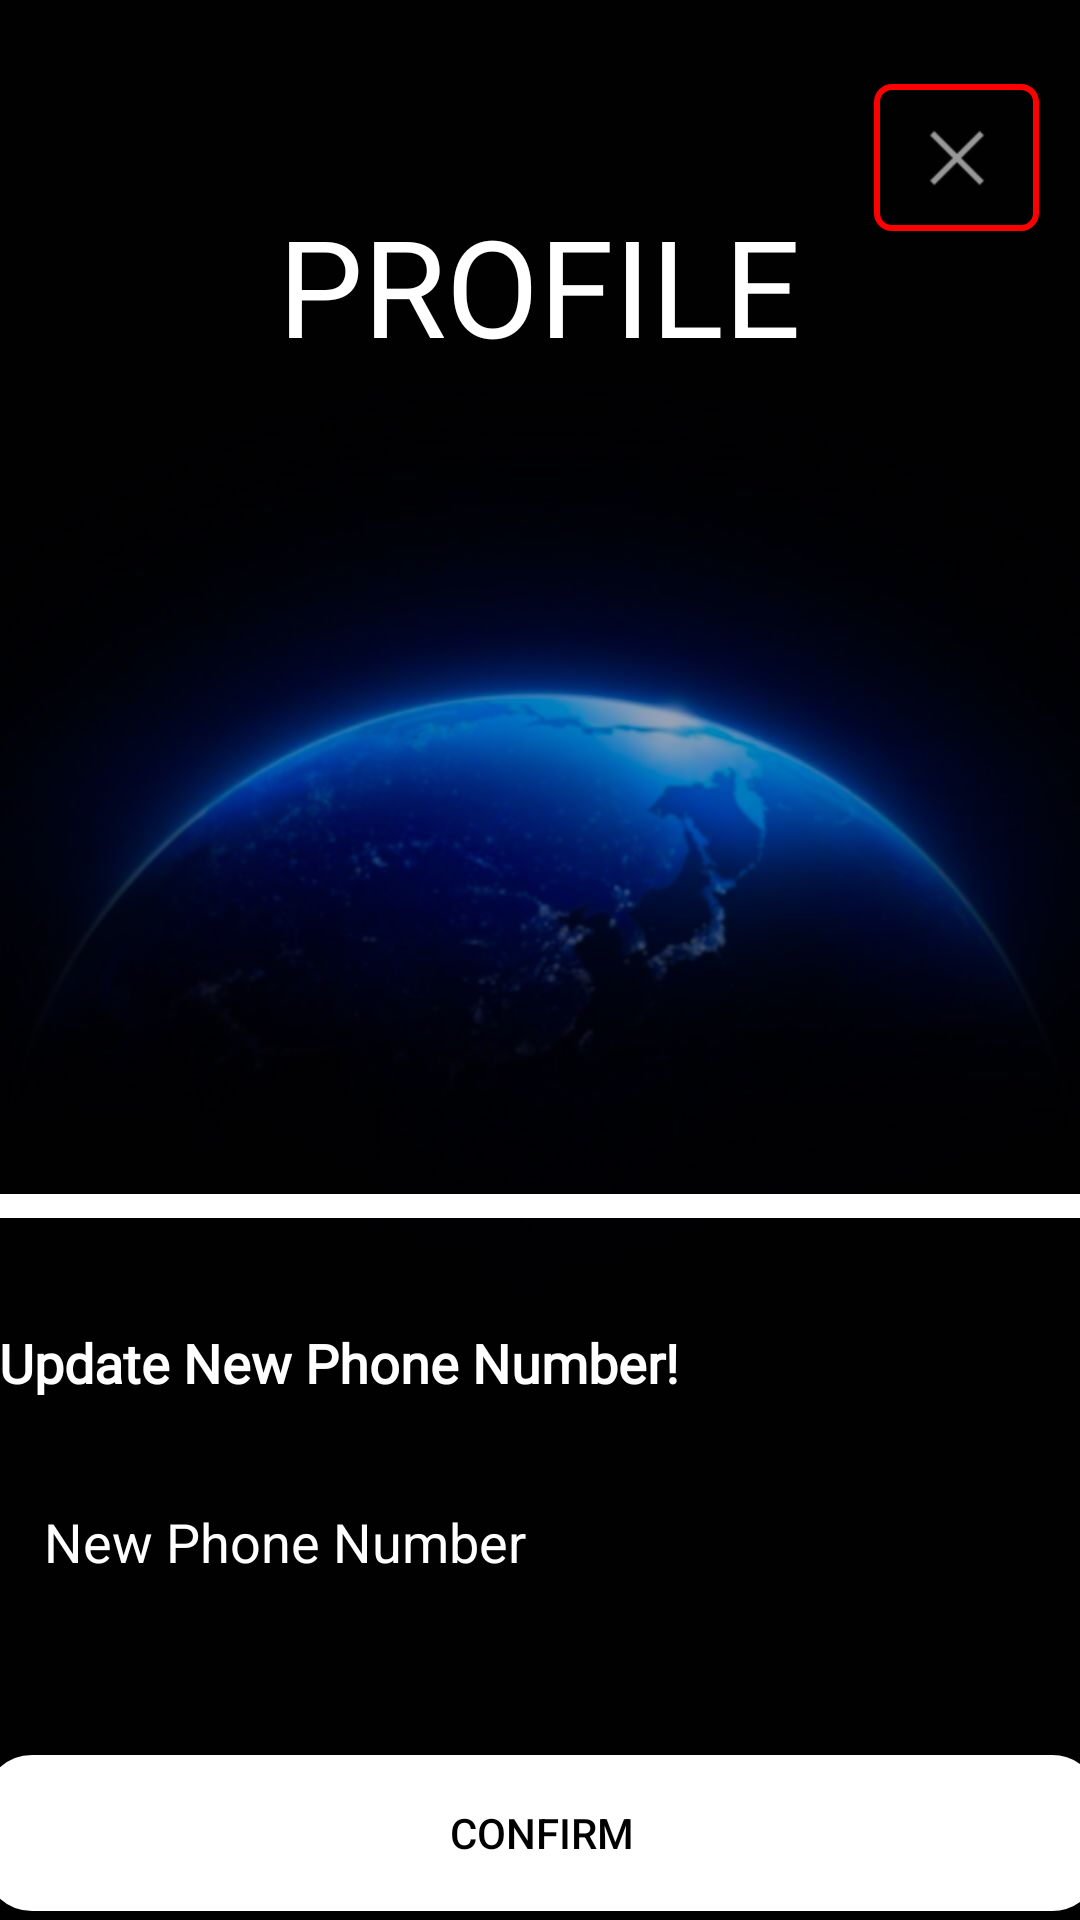

Screen size 1080*1920. Icon name, then its box in pixels as (x1, y1, x2, y2):
close: (874, 84, 1039, 231)
